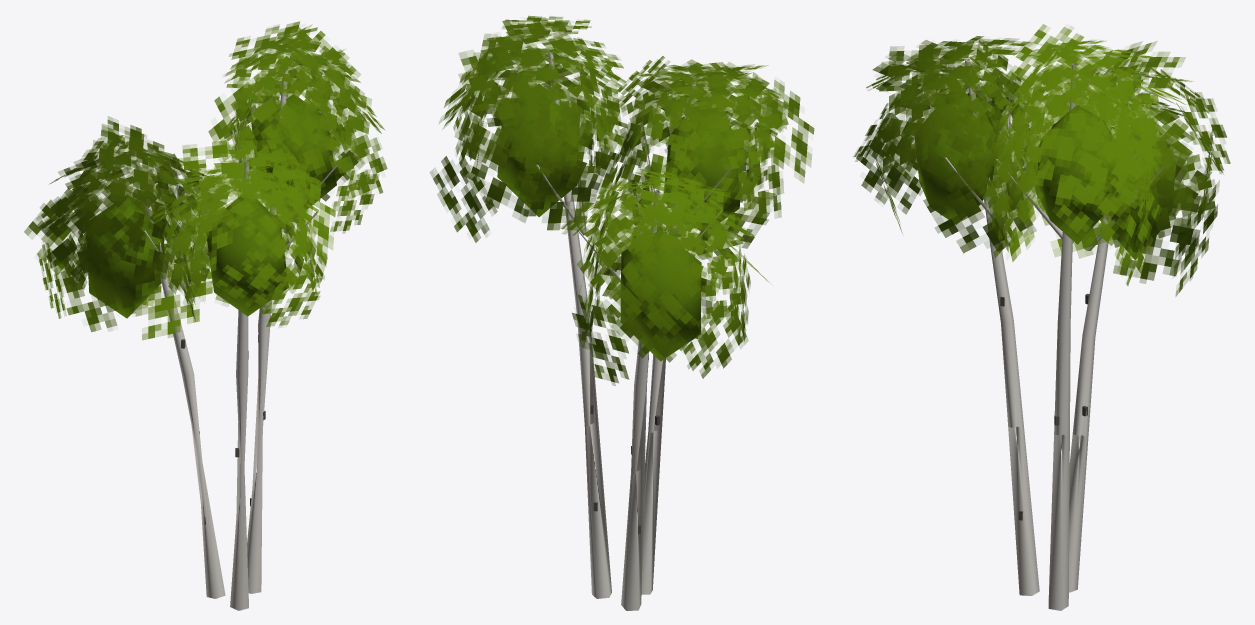
The model's file is birch_trio.glb.
The picture shows the model from 3 angles, left to right: view 1: azimuth 30°, elevation 25°; view 2: azimuth 150°, elevation 25°; view 3: azimuth 270°, elevation 25°; orthographic projection. The views are drawn at different scales.
Visible parts, largest first — view 1: birch_trio_Leaf_Light, birch_trio_Core_Light, birch_trio_Bark_Birch; view 2: birch_trio_Leaf_Light, birch_trio_Bark_Birch, birch_trio_Core_Light; view 3: birch_trio_Leaf_Light, birch_trio_Bark_Birch, birch_trio_Core_Light.
Part boxes in pixels (box(x1,y1,x2,y2)): birch_trio_Leaf_Light: box(24, 21, 387, 340); birch_trio_Core_Light: box(86, 94, 336, 318); birch_trio_Bark_Birch: box(135, 68, 337, 610); birch_trio_Leaf_Light: box(430, 16, 814, 385); birch_trio_Bark_Birch: box(536, 50, 731, 610); birch_trio_Core_Light: box(497, 83, 742, 361); birch_trio_Leaf_Light: box(853, 24, 1230, 296); birch_trio_Bark_Birch: box(945, 59, 1164, 610); birch_trio_Core_Light: box(914, 93, 1175, 259).
Bounding box in the file's own units: 5.34 × 8.36 × 4.96.
4 materials, 1 textured.
